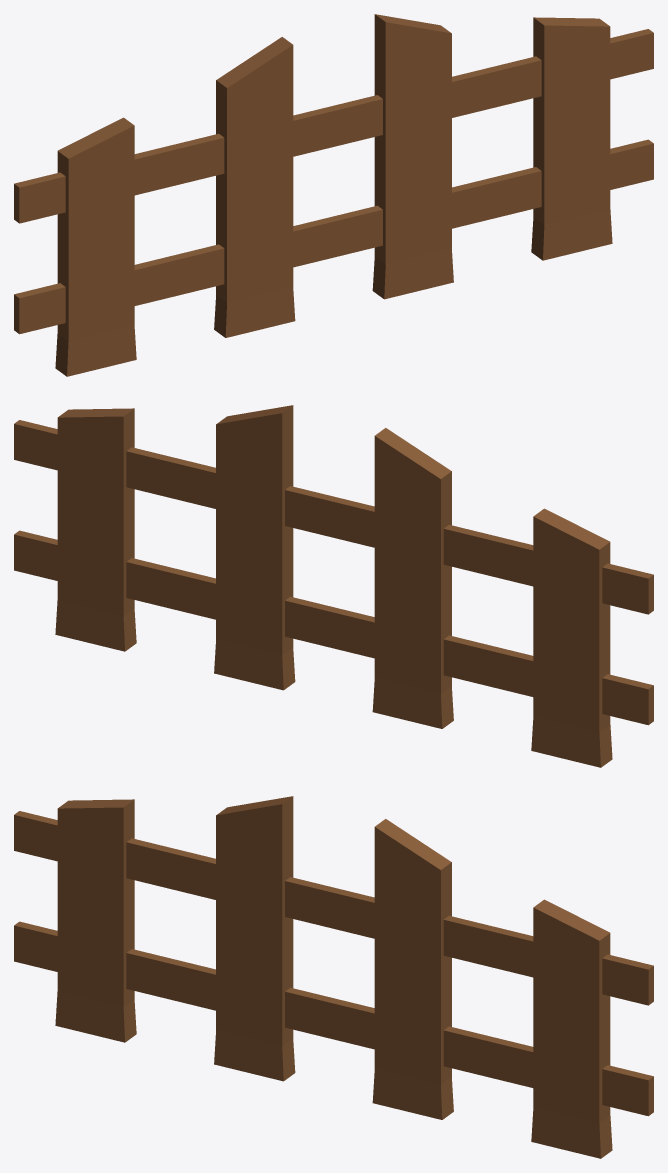
File: Fence_10_Light_Brown.fbx
The picture shows the model from 3 angles, top to bottom: view 1: azimuth 30°, elevation 25°; view 2: azimuth 150°, elevation 25°; view 3: azimuth 330°, elevation 25°; orthographic projection.
Parts seen in each view (by area): view 1: Fence_10_Light_Brown; view 2: Fence_10_Light_Brown; view 3: Fence_10_Light_Brown.
Part boxes in pixels (x1,y1,x2,y2): Fence_10_Light_Brown: (14,14,653,376); Fence_10_Light_Brown: (14,405,653,767); Fence_10_Light_Brown: (14,796,653,1158).
Size of the model in its own units: 240 by 100 by 7.59.
